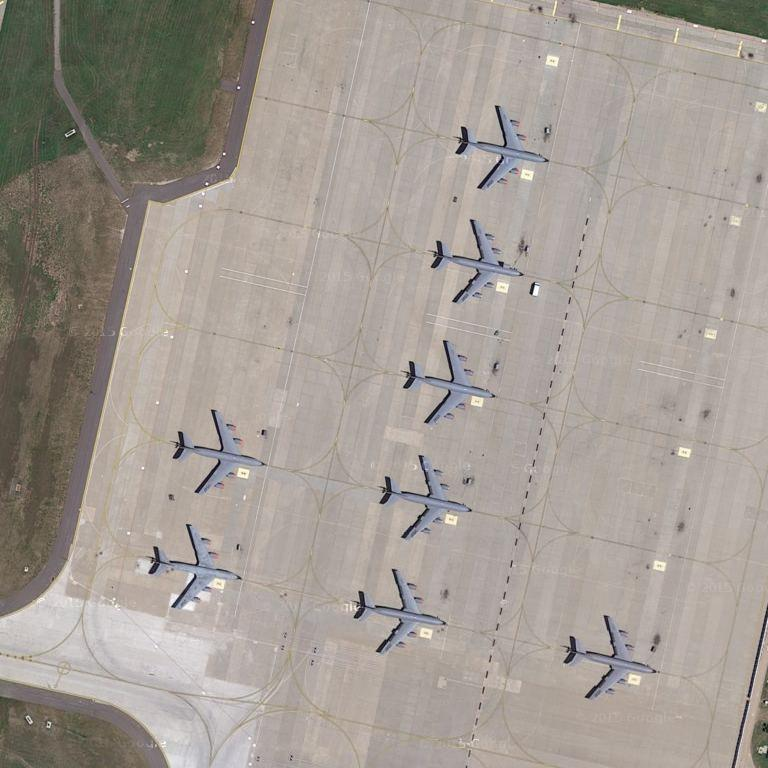KC-135: (449, 101, 554, 192), (561, 608, 658, 706), (399, 336, 501, 427), (428, 217, 531, 306), (148, 519, 246, 612), (170, 405, 265, 499), (373, 454, 475, 541), (350, 565, 445, 656)
